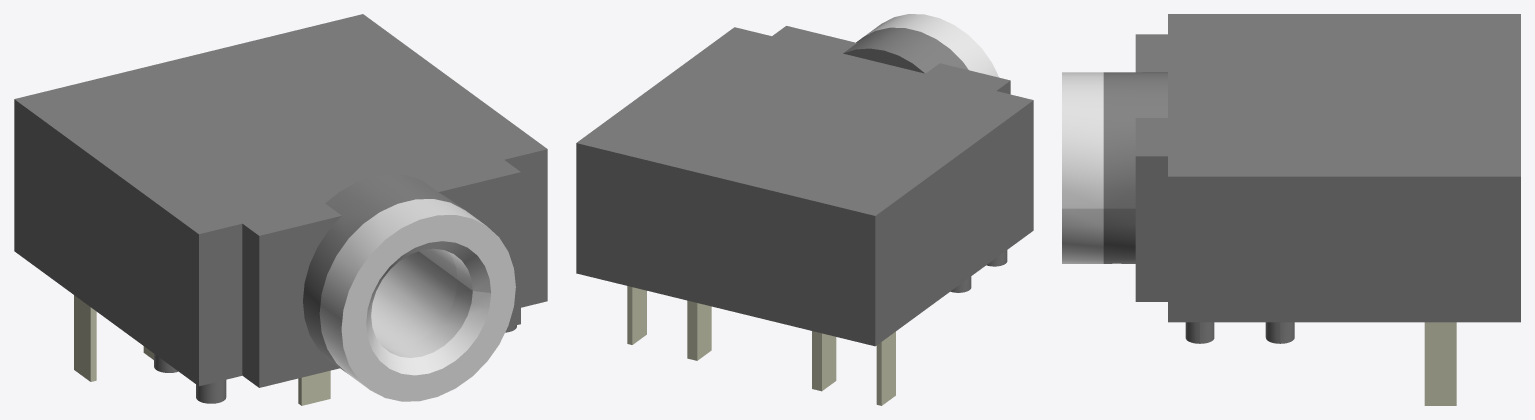
The model's file is kc-jack_3.5mm_cui_sj1-3525n_horizontal.glb.
The picture shows the model from 3 angles, left to right: view 1: azimuth 30°, elevation 25°; view 2: azimuth 150°, elevation 25°; view 3: azimuth 270°, elevation 25°; orthographic projection. The views are drawn at different scales.
Visible parts, largest first — view 1: 0.25_0.25_0.25_0, 0.8333333333333334_0.8333333333333334_0.8333333333333334_0.8, 0.6666666666666666_0.6666666666666666_0.5_0; view 2: 0.25_0.25_0.25_0, 0.6666666666666666_0.6666666666666666_0.5_0, 0.8333333333333334_0.8333333333333334_0.8333333333333334_0.8; view 3: 0.25_0.25_0.25_0, 0.8333333333333334_0.8333333333333334_0.8333333333333334_0.8, 0.6666666666666666_0.6666666666666666_0.5_0.
Part boxes in pixels (<box>): 0.25_0.25_0.25_0: <box>14,14,547,403</box>; 0.8333333333333334_0.8333333333333334_0.8333333333333334_0.8: <box>319,199,515,401</box>; 0.6666666666666666_0.6666666666666666_0.5_0: <box>74,295,330,405</box>; 0.25_0.25_0.25_0: <box>576,26,1033,346</box>; 0.6666666666666666_0.6666666666666666_0.5_0: <box>627,286,895,405</box>; 0.8333333333333334_0.8333333333333334_0.8333333333333334_0.8: <box>864,14,998,77</box>; 0.25_0.25_0.25_0: <box>1103,14,1520,343</box>; 0.8333333333333334_0.8333333333333334_0.8333333333333334_0.8: <box>1062,72,1103,263</box>; 0.6666666666666666_0.6666666666666666_0.5_0: <box>1424,322,1456,405</box>.
Size of the model in its own units: 1.2 by 0.88 by 1.43.
